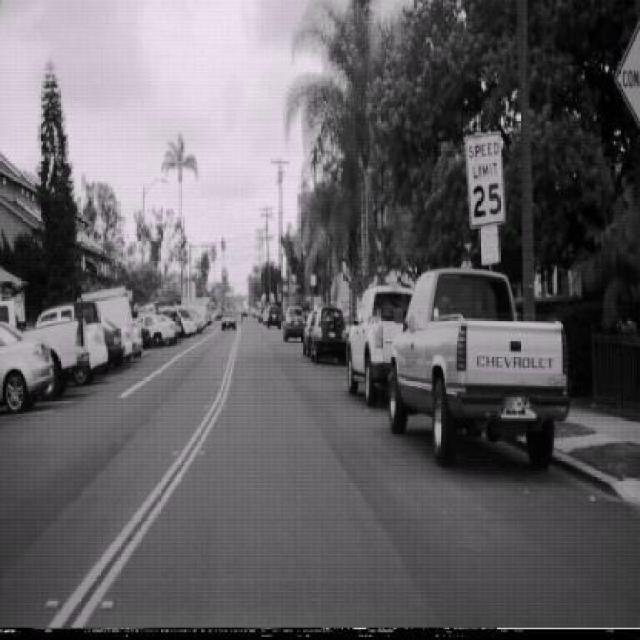speedLimit25: (465, 131, 506, 229)
